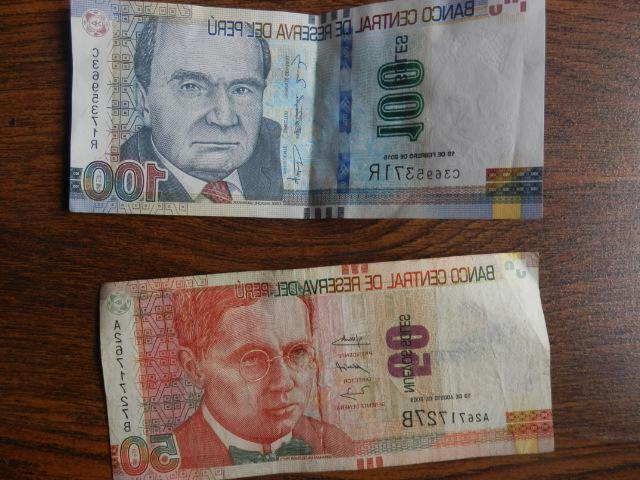B100: (70, 1, 546, 220)
B50: (101, 252, 551, 480)
